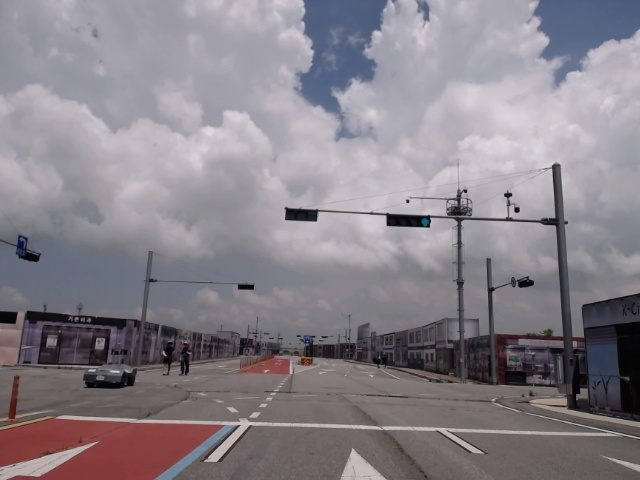straight_green_4: (388, 215, 430, 226)
